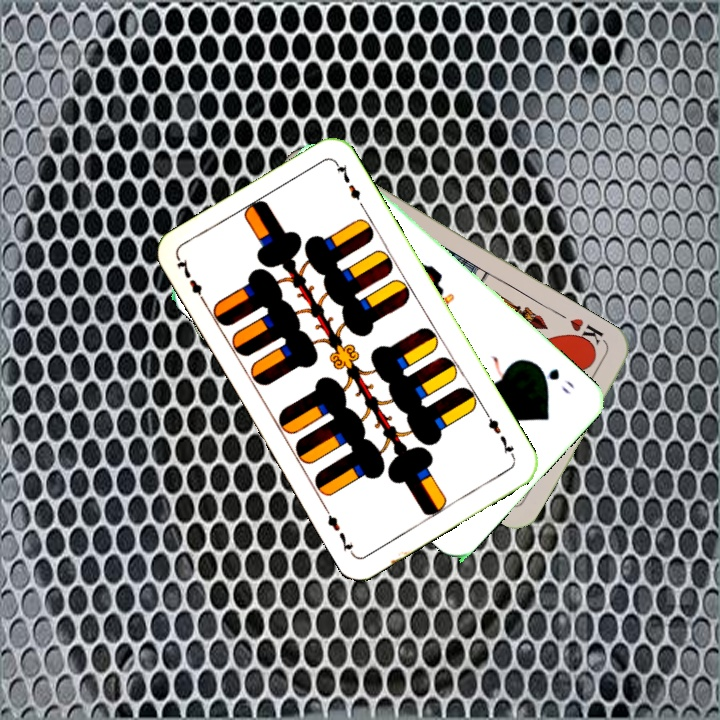E7: (172, 255, 210, 308), (481, 408, 518, 461)
GO: (531, 359, 577, 397)
HK: (562, 314, 611, 353)
